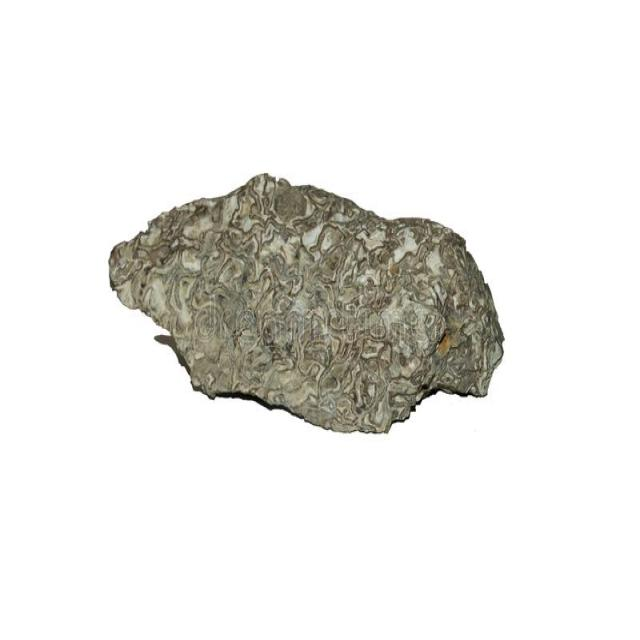Sedimentary: (100, 168, 521, 443)
